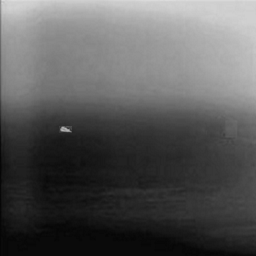Target: (59, 125, 73, 133)
